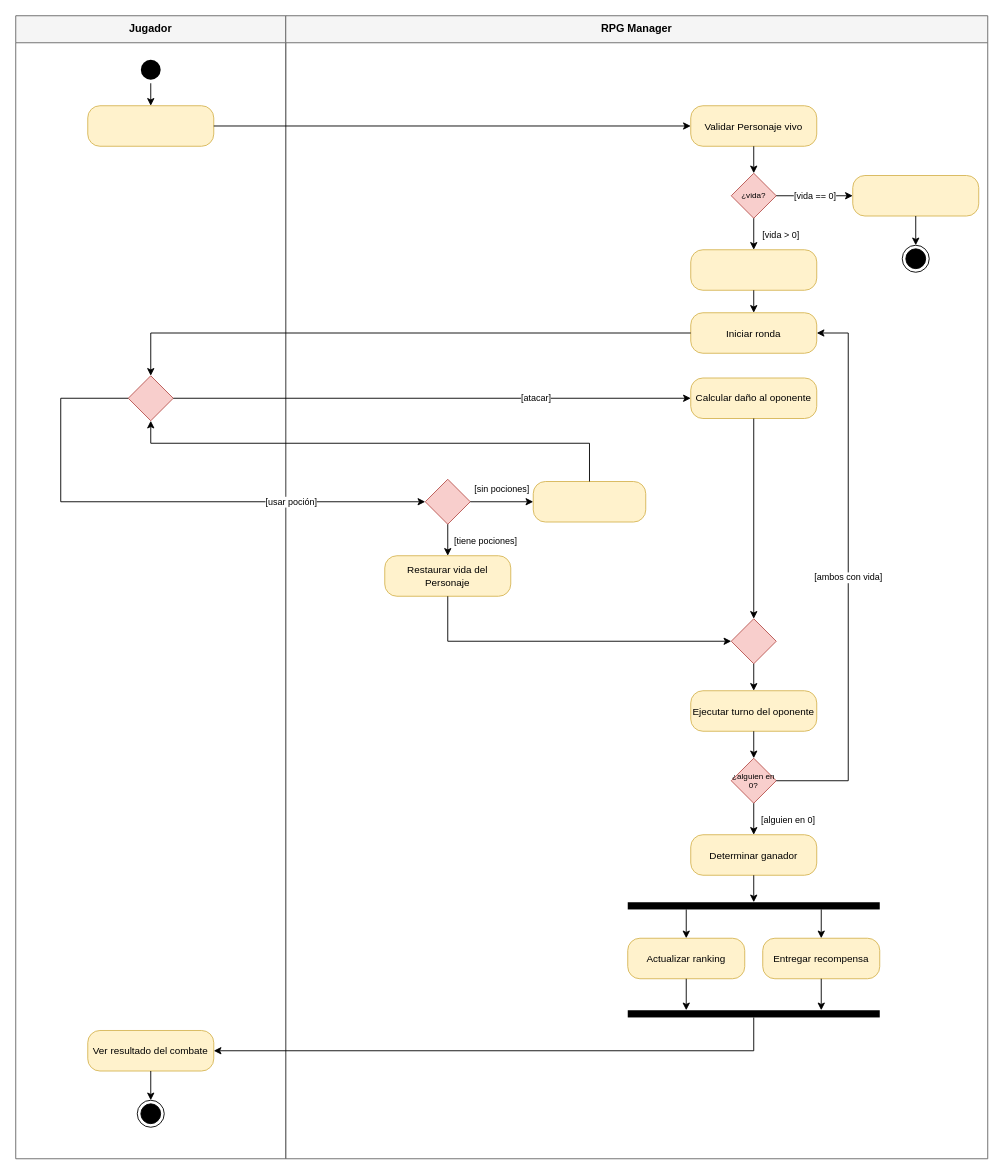
The diagram is 1004 pixels wide and 1175 high, and some of its shapes have lost their labels. The shapes that lost their labels are listed below. From the top down, each one's centre as x and y in pixels, then its label:
the point at 150,125: Seleccionar Personaje
the point at 915,195: Informar "Personaje sin vida"
the point at 753,269: Asignar oponente (Monstruo)
the point at 150,398: ¿acción?
the point at 447,501: ¿tiene pociones?
the point at 589,501: Informar "Sin pociones"
